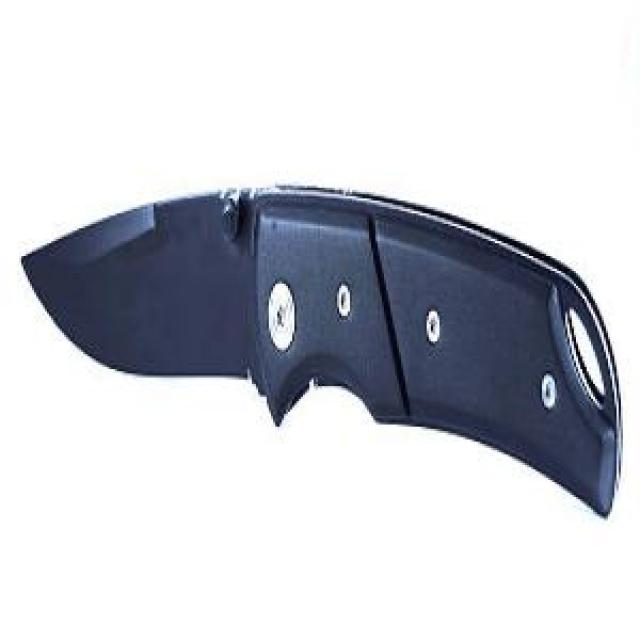knife: (19, 175, 626, 523)
